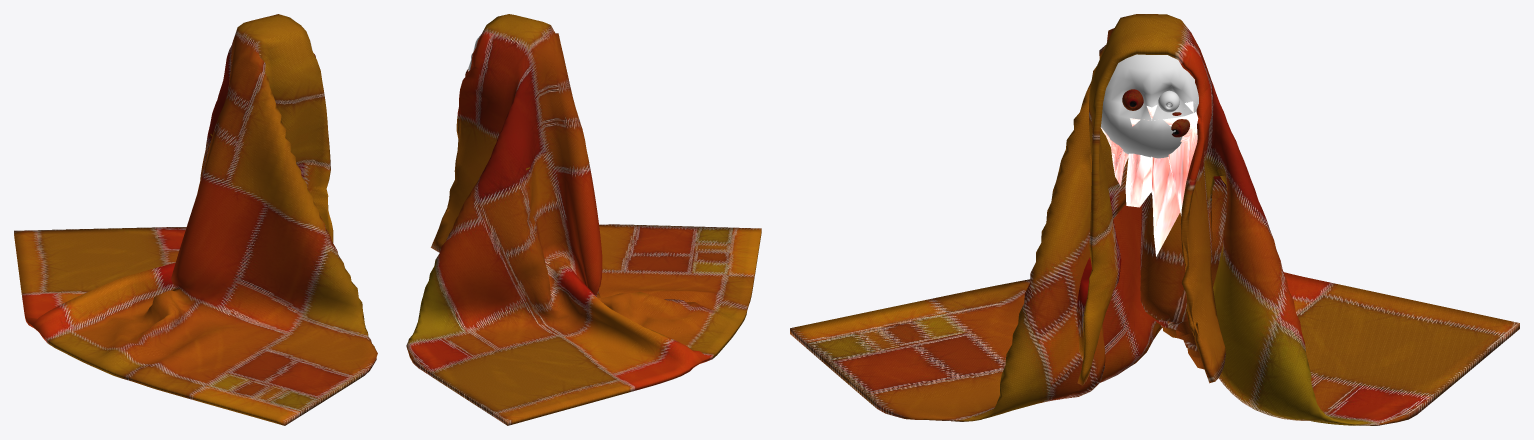
The model's file is Pošast1.gltf.
3 renders of one model, left to right at view 1: azimuth 30°, elevation 25°; view 2: azimuth 150°, elevation 25°; view 3: azimuth 270°, elevation 25°, orthographic. The views are drawn at different scales.
Visible parts, largest first — view 1: blago; view 2: blago; view 3: blago, Sphere, glava.
Boxes of the visible parts, x1=… form: blago: x1=14, y1=14, x2=377, y2=425; blago: x1=406, y1=14, x2=761, y2=425; blago: x1=790, y1=14, x2=1519, y2=425; Sphere: x1=1101, y1=54, x2=1198, y2=158; glava: x1=1100, y1=101, x2=1198, y2=256.
Bounding box in the file's own units: 7.38 × 7.19 × 12.26.
3 materials, 2 textured.
